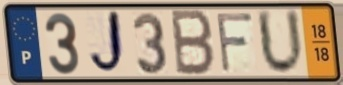3: (130, 9, 169, 77), (43, 10, 81, 77)
B: (170, 8, 217, 79)
F: (214, 11, 256, 76)
J: (87, 8, 128, 78)
U: (254, 7, 307, 78)
